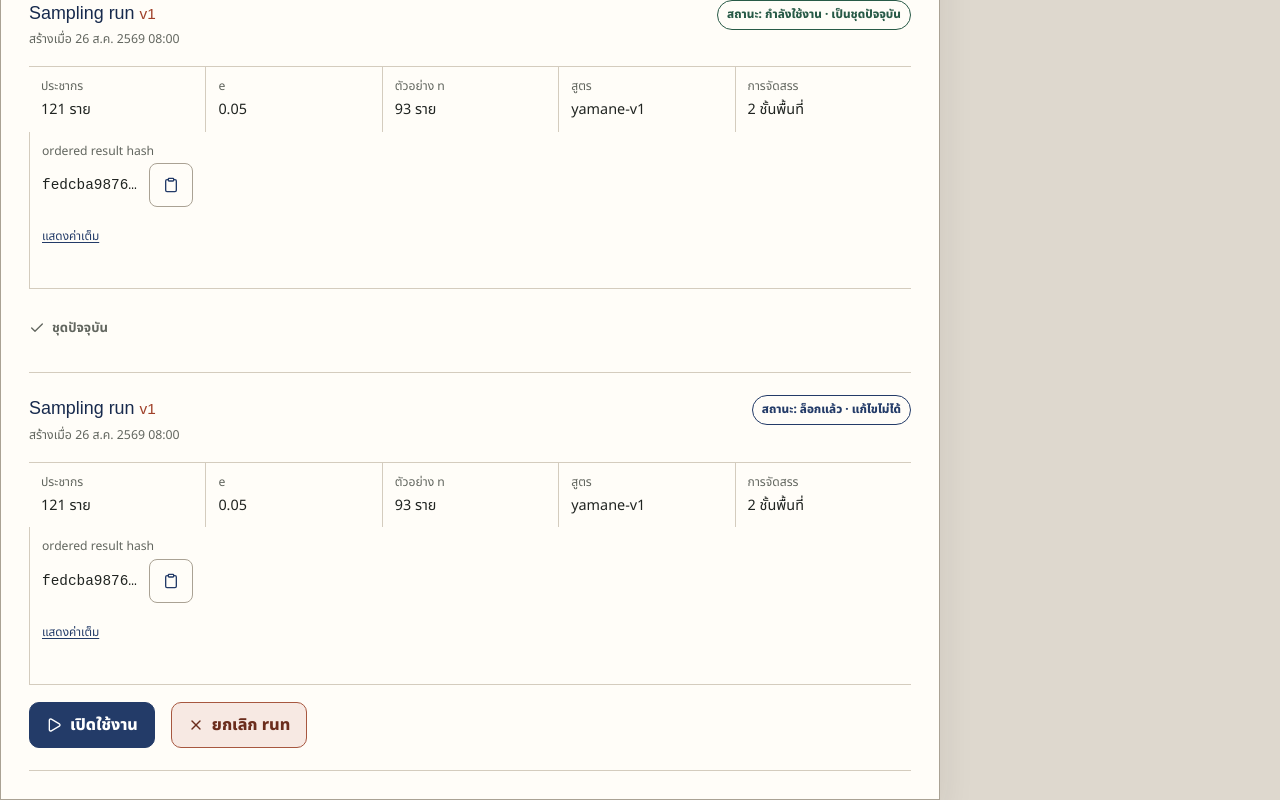
Scenario: SamplingWorkbench › supersedes the prior active run in the local receipt immediately
(page scrolled)
Click the button "เปิดใช้งาน" at x=92, y=725, box [29,702,155,748]
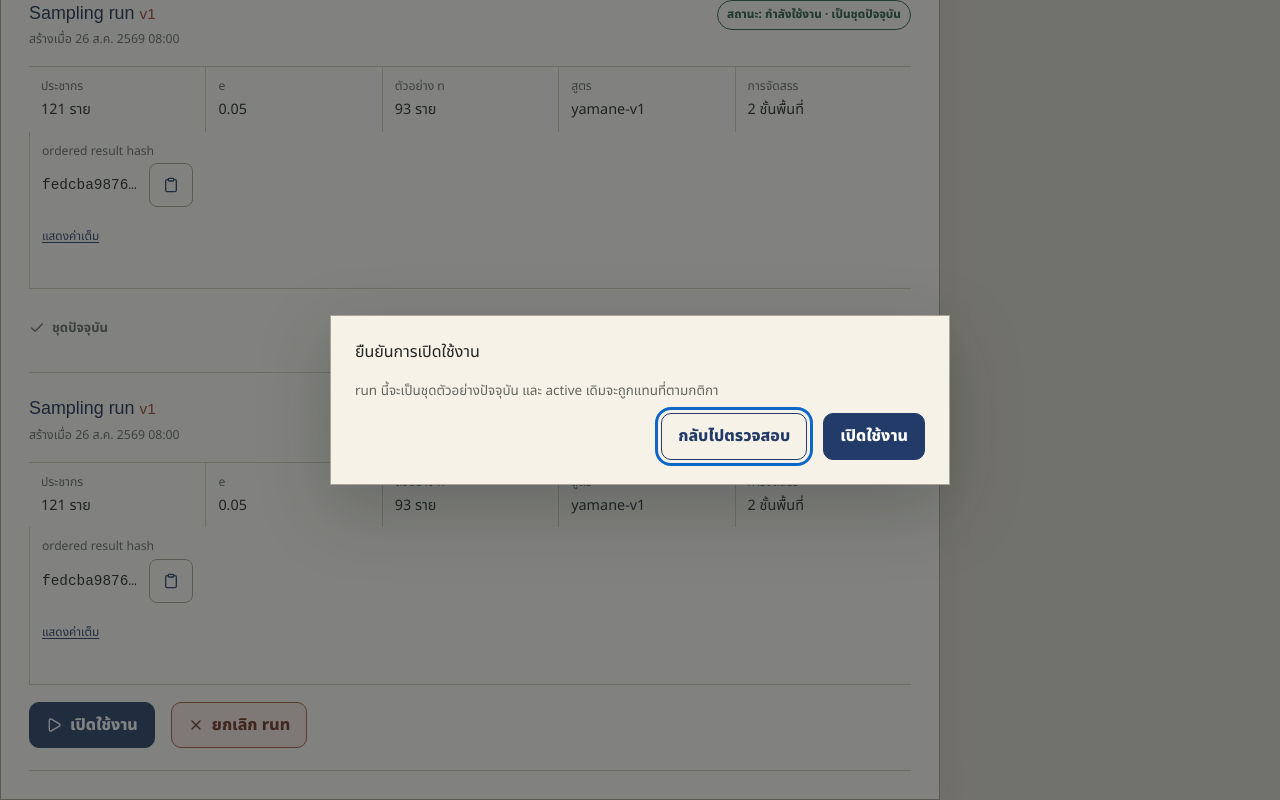
Click the button "เปิดใช้งาน" at x=874, y=437, box [823,413,925,460]
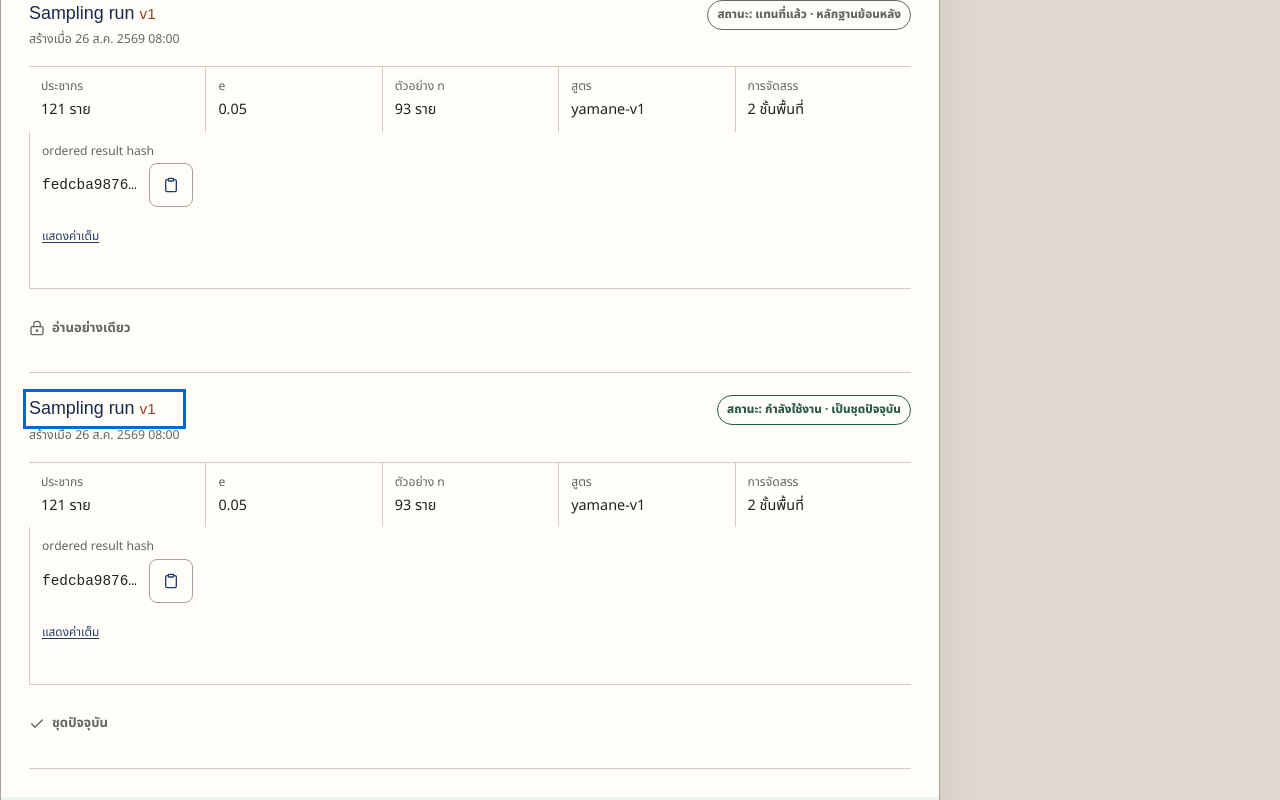
Expected: the text "สถานะ: แทนที่แล้ว · หลักฐานย้อนหลัง" is shown, [707,0,911,30]
